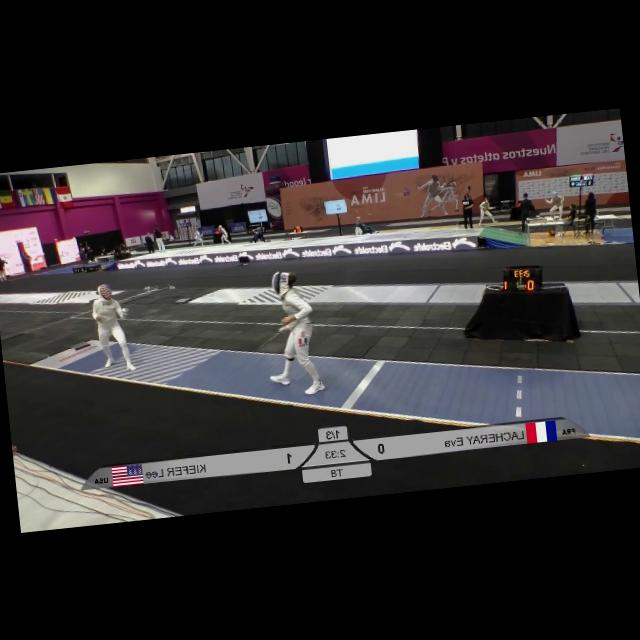blade: (253, 326, 284, 354), (117, 285, 146, 312)
